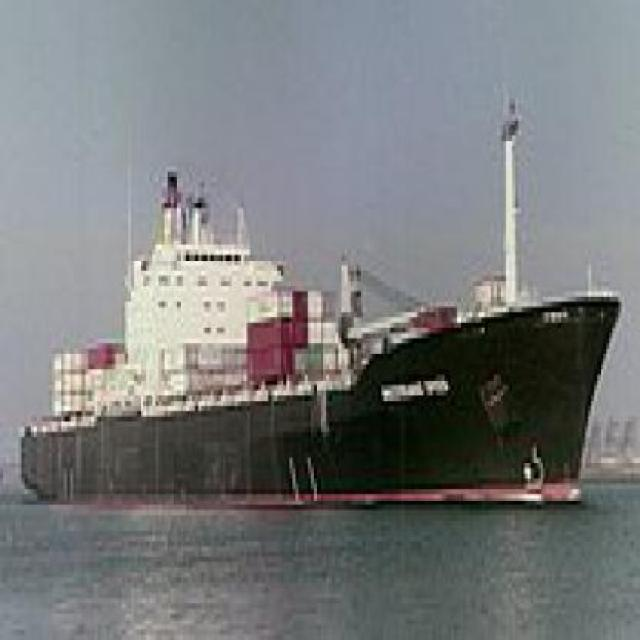container: (16, 53, 632, 532)
